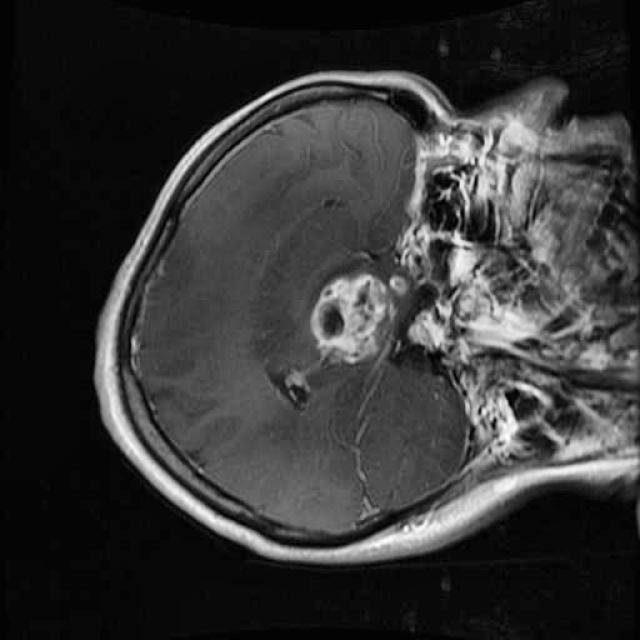Non-Tumor: (301, 250, 405, 380)
